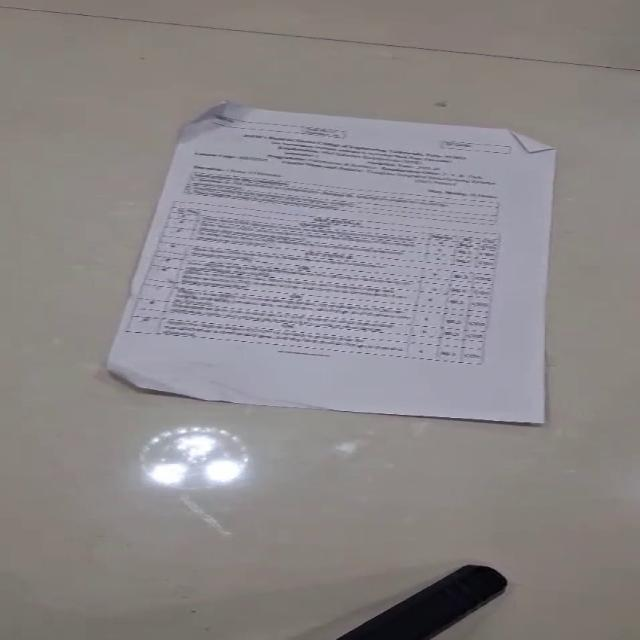paper: (104, 99, 557, 424)
